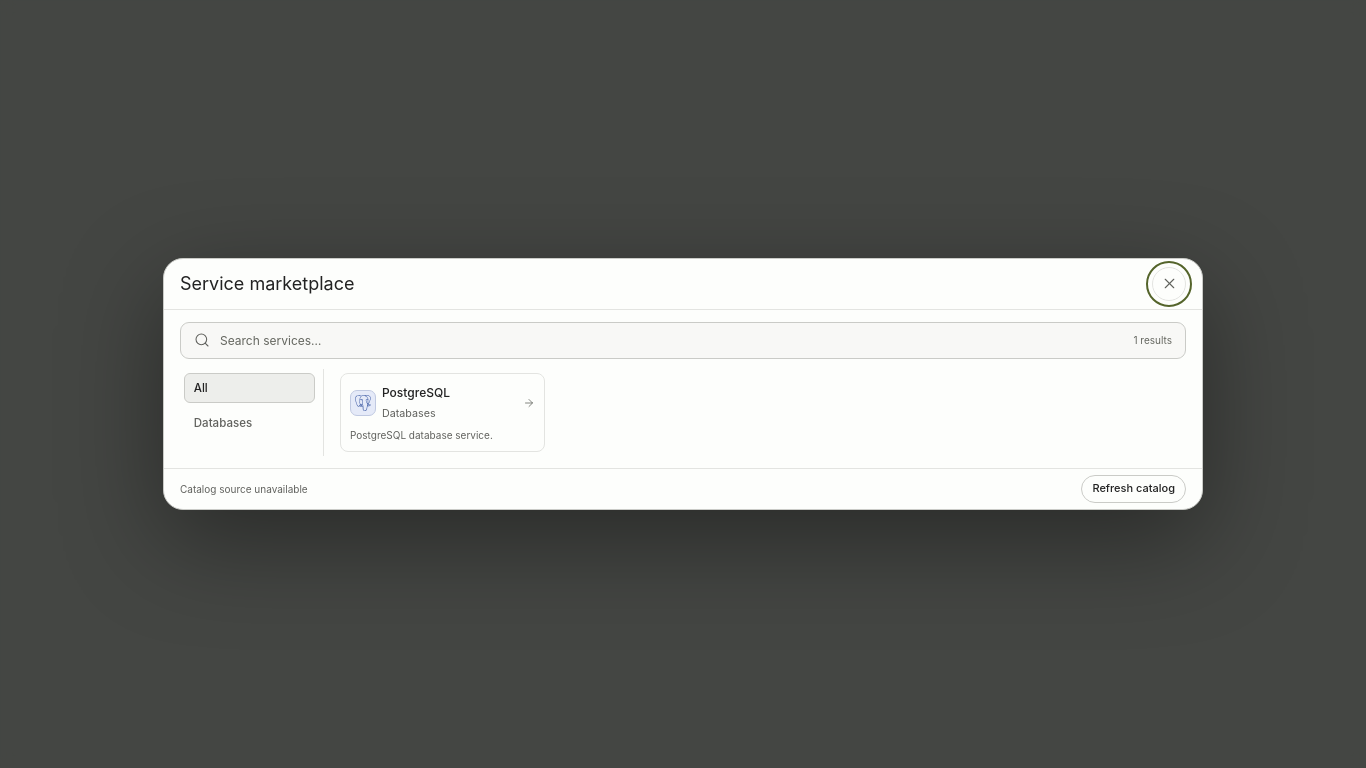
Test: service catalog › handles an empty search
Expected: the button "PostgreSQL Databases PostgreSQL database service." is shown, [340,373,544,452]
Step 1. Type "missing" into the field named "Search service catalog" → (672, 340), box [220,323,1124,358]
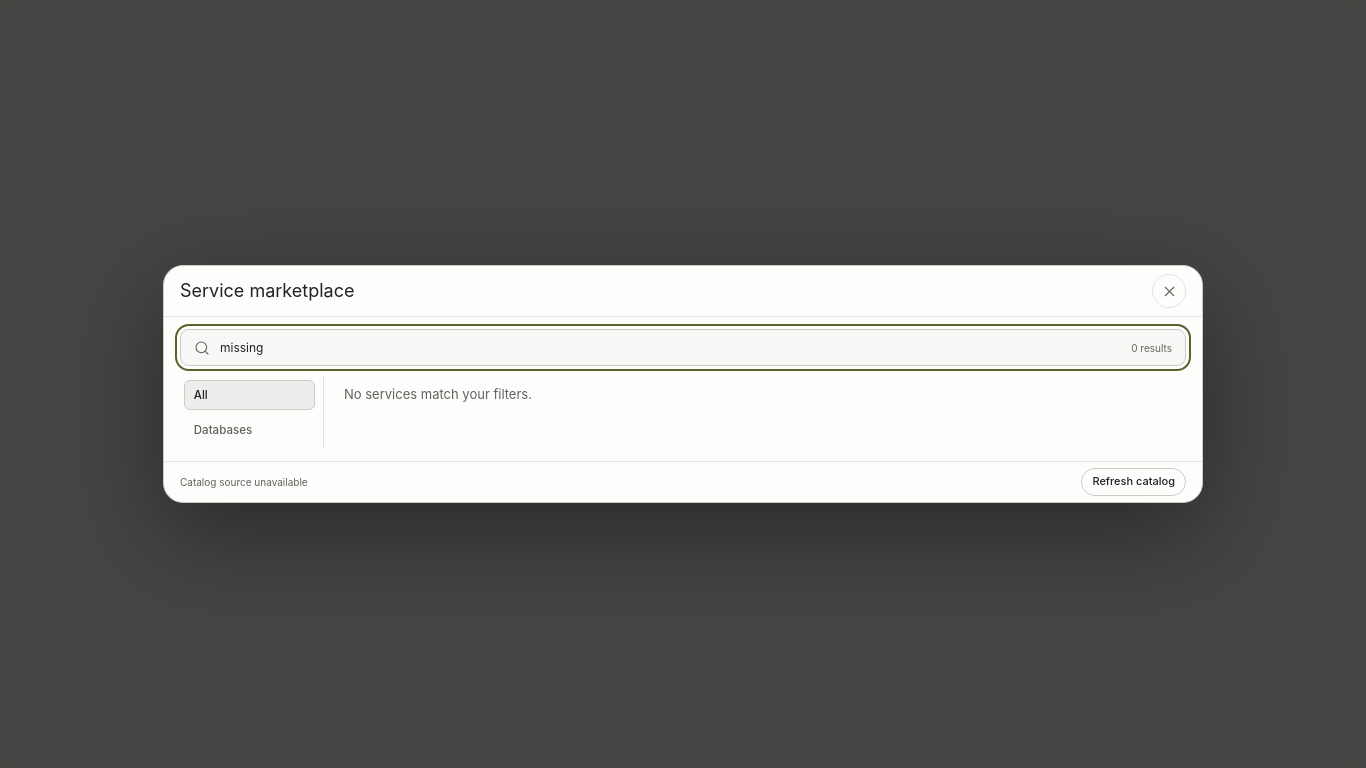
Expected: the text "No services match your filters." is shown, [344,386,532,402]
